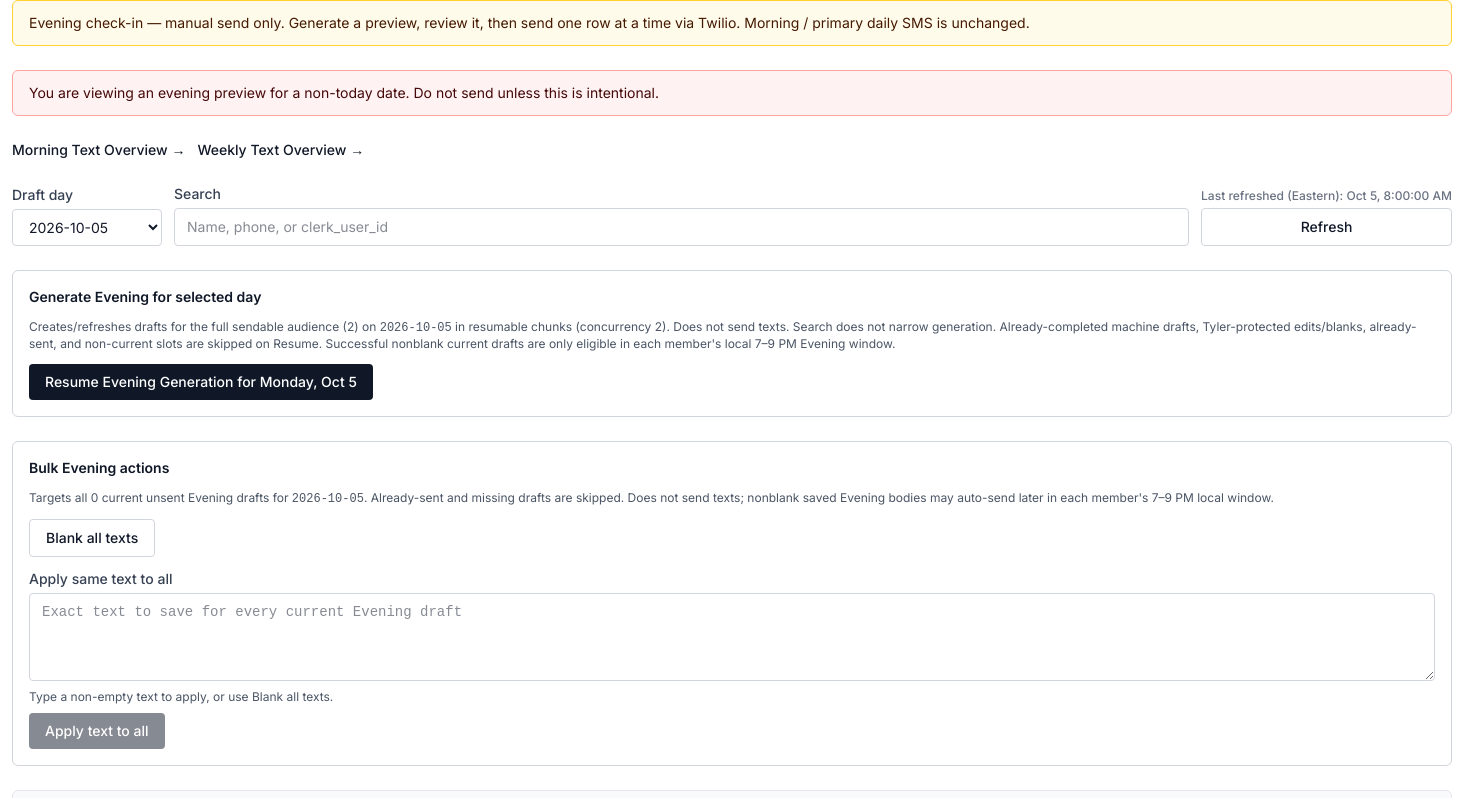
it: Generate All Clerk bearer token › getToken() returning null does not POST and does not clear the resume snapshot
Click the button "Resume Evening Generation for Monday, Oct 5" at (201, 382), box [29, 364, 373, 400]
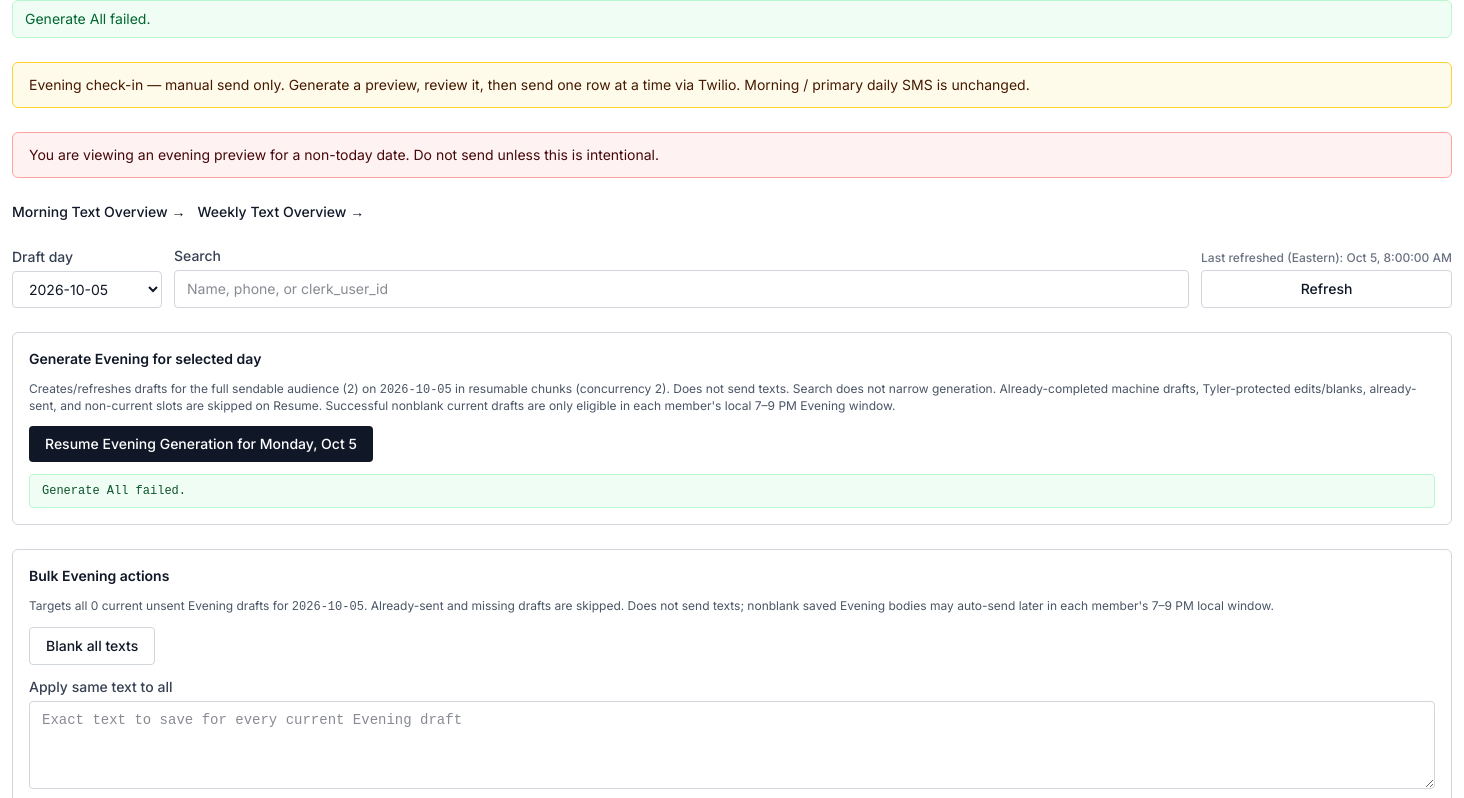
expect the 1st text "Generate All failed." is shown: met, box [12, 0, 1452, 38]
